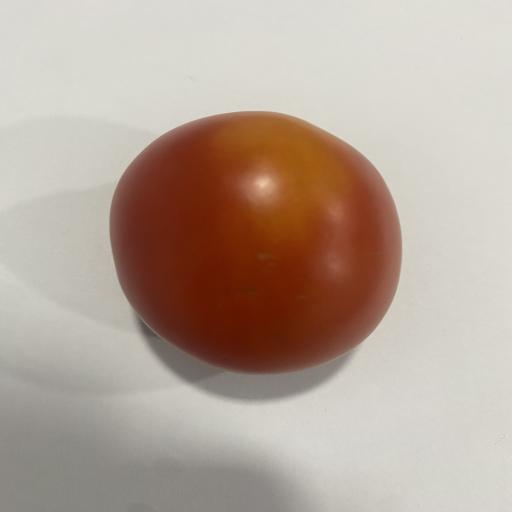ripe: (110, 112, 401, 373)
